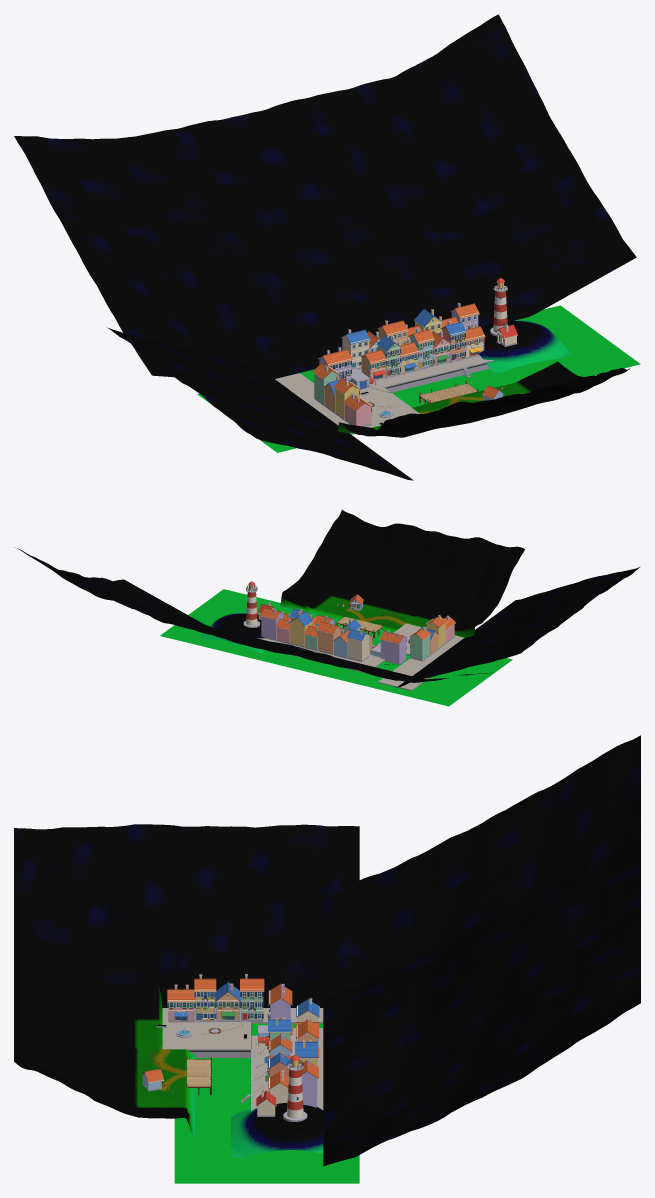
Rendered from wv2_static.glb.
3 views of the same model, one above another, from view 1: azimuth 30°, elevation 25°; view 2: azimuth 150°, elevation 25°; view 3: azimuth 270°, elevation 25° (orthographic). The views are drawn at different scales.
Parts seen in each view (by area): view 1: wv2_terrain, wv2_street, wv2_quay, wv2_back, wv2_plaza; view 2: wv2_terrain, wv2_back, wv2_quay, wv2_street, wv2_plaza, wv2_dock; view 3: wv2_terrain, wv2_quay, wv2_plaza, wv2_back, wv2_street, wv2_dock.
Part boxes in pixels (x1,y1,x2,y2): wv2_terrain: [14, 14, 640, 480]; wv2_street: [318, 320, 485, 407]; wv2_quay: [275, 355, 494, 433]; wv2_back: [340, 277, 517, 369]; wv2_plaza: [312, 363, 393, 426]; wv2_terrain: [15, 509, 639, 706]; wv2_back: [243, 581, 370, 661]; wv2_quay: [257, 623, 464, 690]; wv2_street: [281, 608, 425, 664]; wv2_plaza: [408, 615, 455, 661]; wv2_dock: [336, 614, 383, 638]; wv2_terrain: [14, 735, 640, 1183]; wv2_quay: [162, 1008, 323, 1111]; wv2_plaza: [157, 974, 264, 1039]; wv2_back: [256, 997, 319, 1121]; wv2_street: [173, 983, 292, 1103]; wv2_dock: [186, 1056, 212, 1095].
Size of the model in its own units: 170 by 59.29 by 156.
